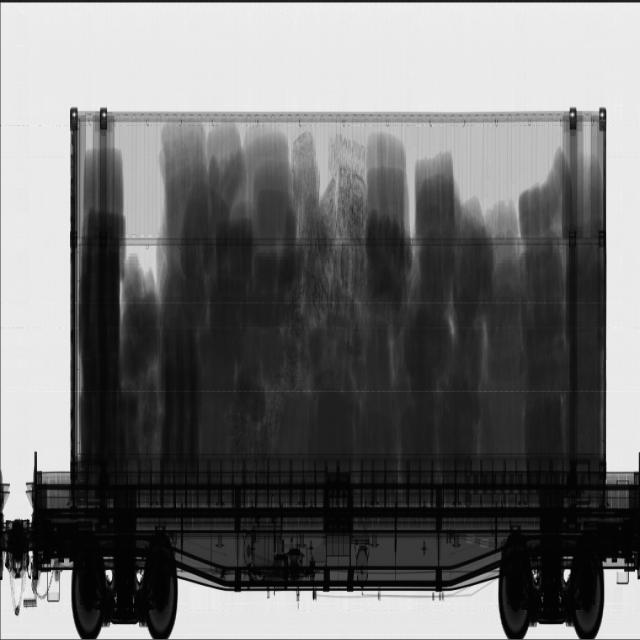clothes: (283, 128, 603, 453), (77, 126, 295, 459)
shoes: (227, 132, 368, 462)
